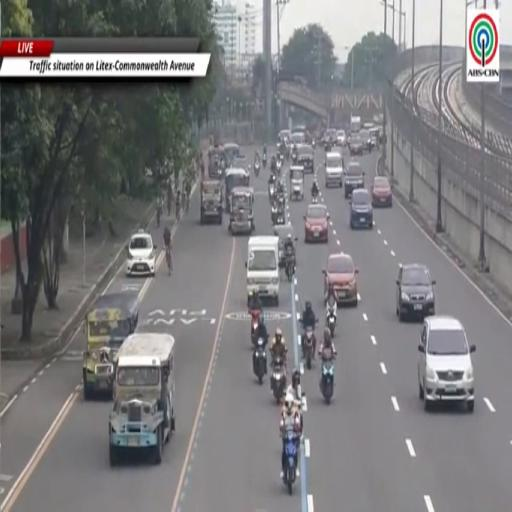car: (418, 316, 475, 412), (396, 264, 435, 321), (323, 253, 358, 307), (126, 230, 156, 276), (304, 204, 329, 243), (350, 188, 372, 229), (344, 160, 364, 198), (325, 152, 343, 187), (372, 176, 392, 206), (297, 144, 314, 173), (349, 134, 363, 155), (360, 130, 372, 153), (370, 127, 380, 149), (337, 131, 346, 147)
jeepney: (110, 333, 175, 466), (83, 293, 139, 399), (229, 187, 254, 234), (225, 168, 250, 213), (274, 226, 297, 268), (201, 180, 223, 223), (209, 147, 224, 179), (290, 166, 304, 200), (224, 143, 239, 166)
motorcycle: (283, 430, 297, 494), (270, 358, 286, 404), (253, 338, 266, 385), (321, 360, 333, 404), (304, 327, 315, 370), (325, 301, 337, 337), (250, 310, 260, 345), (285, 249, 295, 281), (275, 208, 284, 225), (271, 205, 278, 225), (157, 204, 162, 227), (254, 162, 260, 178), (269, 184, 275, 199), (285, 147, 290, 161), (324, 142, 331, 152), (277, 158, 281, 173), (312, 195, 318, 204), (292, 153, 297, 163), (312, 139, 316, 149), (263, 155, 266, 168)
